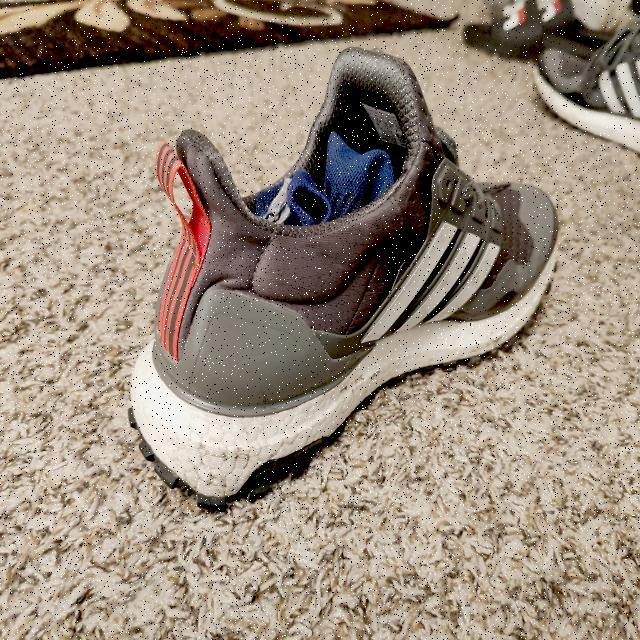black shoes: (192, 183, 522, 345)
